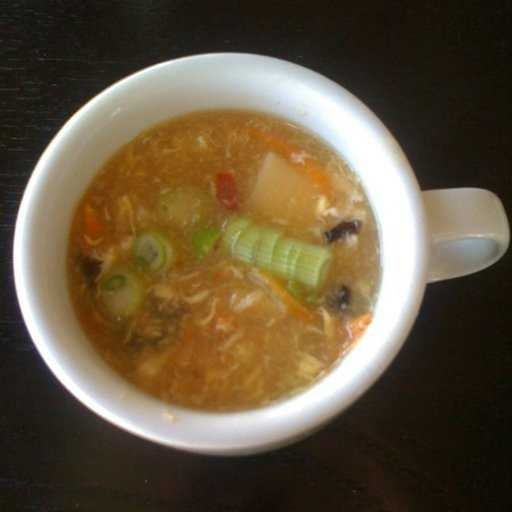soup: (65, 129, 388, 399)
